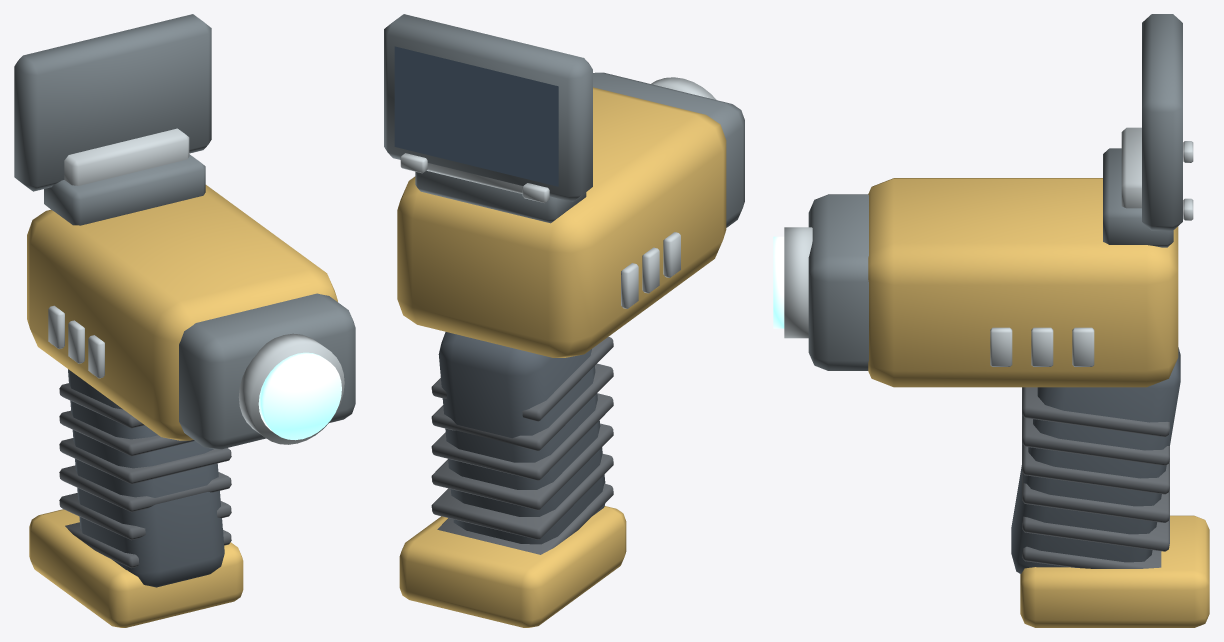
File: scanner_enhanced.glb
3 renders of one model, left to right at view 1: azimuth 30°, elevation 25°; view 2: azimuth 150°, elevation 25°; view 3: azimuth 270°, elevation 25°, orthographic. The views are drawn at different scales.
Parts seen in each view (by area): view 1: ToolBody_gold, LiveViewSurfaceFrame_frame, Grip_black, NoseHousing_frame, Battery_gold, GripRib_rubber, DisplayMount_frame, Lens_cyan, DisplayBracket_steel, LensMount_steel, HousingVent_steel; view 2: ToolBody_gold, Grip_black, LiveViewSurface_glass, Battery_gold, GripRib_rubber, LiveViewSurfaceFrame_frame, NoseHousing_frame, DisplayMount_frame, HousingVent_steel, DisplayControls_steel, DisplayBracket_steel, LensMount_steel; view 3: ToolBody_gold, Grip_black, Battery_gold, GripRib_rubber, NoseHousing_frame, LiveViewSurfaceFrame_frame, DisplayMount_frame, LensMount_steel, HousingVent_steel, DisplayBracket_steel, Lens_cyan.
Part boxes in pixels (x1,y1,x2,y2): ToolBody_gold: [27, 185, 337, 440]; LiveViewSurfaceFrame_frame: [14, 14, 211, 191]; Grip_black: [68, 369, 224, 587]; NoseHousing_frame: [179, 293, 355, 449]; Battery_gold: [29, 509, 243, 627]; GripRib_rubber: [59, 383, 231, 568]; DisplayMount_frame: [44, 154, 205, 225]; Lens_cyan: [258, 352, 341, 440]; DisplayBracket_steel: [64, 128, 189, 185]; LensMount_steel: [238, 333, 344, 444]; HousingVent_steel: [48, 305, 104, 378]; ToolBody_gold: [397, 87, 726, 357]; Grip_black: [438, 332, 605, 544]; LiveViewSurface_glass: [394, 46, 558, 186]; Battery_gold: [399, 506, 626, 627]; GripRib_rubber: [431, 337, 613, 554]; LiveViewSurfaceFrame_frame: [384, 14, 592, 201]; NoseHousing_frame: [593, 72, 744, 227]; DisplayMount_frame: [415, 170, 586, 223]; HousingVent_steel: [621, 232, 680, 308]; DisplayControls_steel: [400, 153, 549, 202]; DisplayBracket_steel: [426, 163, 522, 193]; LensMount_steel: [651, 77, 716, 99]; ToolBody_gold: [868, 178, 1178, 387]; Grip_black: [1011, 347, 1180, 573]; Battery_gold: [1020, 515, 1209, 627]; GripRib_rubber: [1022, 387, 1169, 568]; NoseHousing_frame: [808, 194, 868, 370]; LiveViewSurfaceFrame_frame: [1142, 14, 1182, 230]; DisplayMount_frame: [1103, 148, 1173, 247]; LensMount_steel: [784, 227, 812, 338]; HousingVent_steel: [990, 327, 1094, 366]; DisplayBracket_steel: [1121, 127, 1141, 208]; Lens_cyan: [773, 236, 784, 328].
Bounding box in the file's own units: 0.371 × 0.95 × 0.691.
